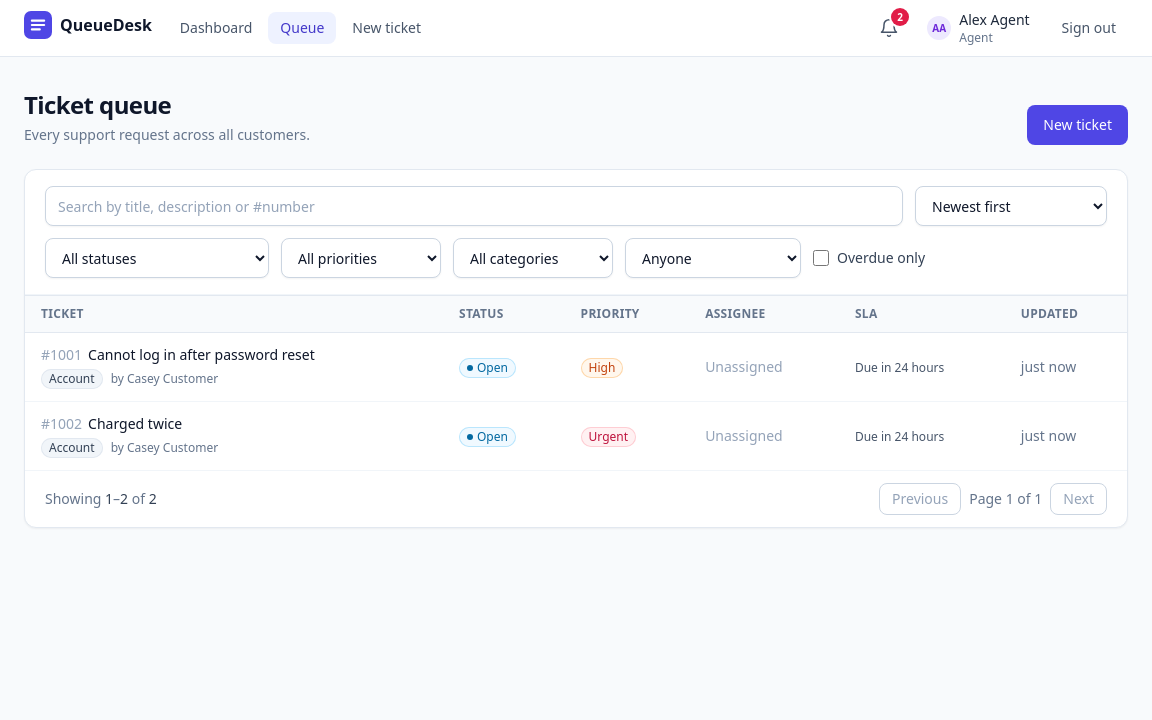
Scenario: notification bell › marks everything as read
The width and height of the screenshot is (1152, 720).
Click the button named "notifications".
click(889, 28)  # box [871,10,907,46]
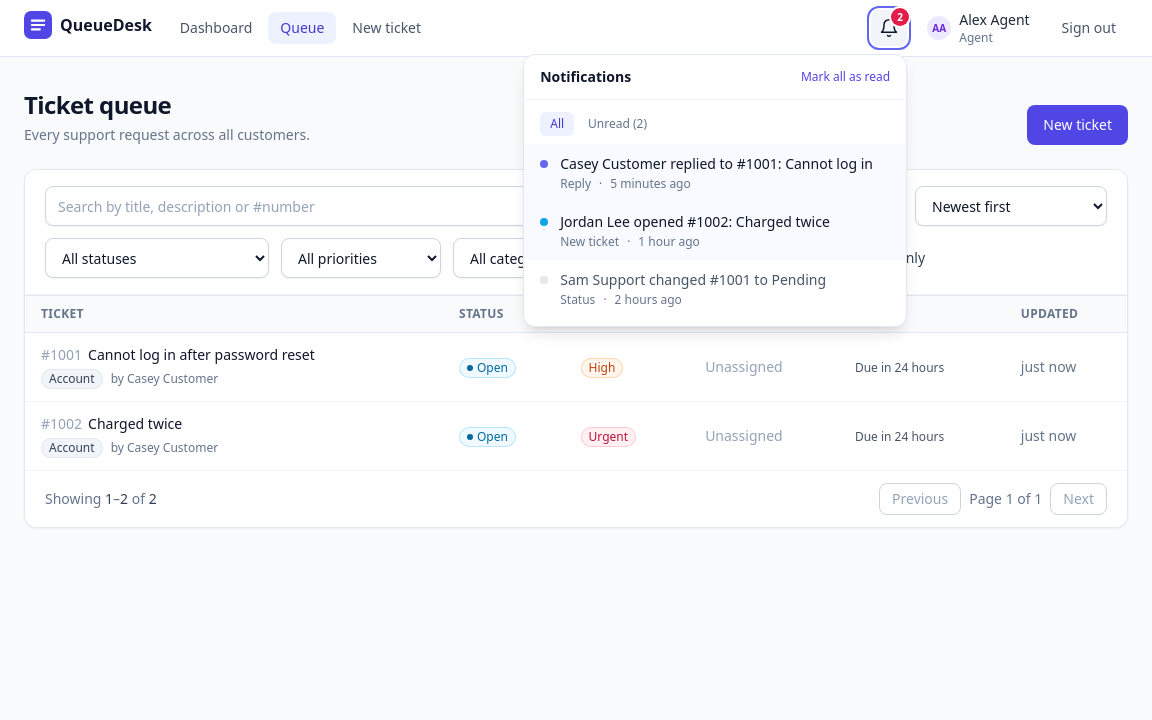
Click the button "Mark all as read".
click(846, 77)  # box [801,69,890,85]
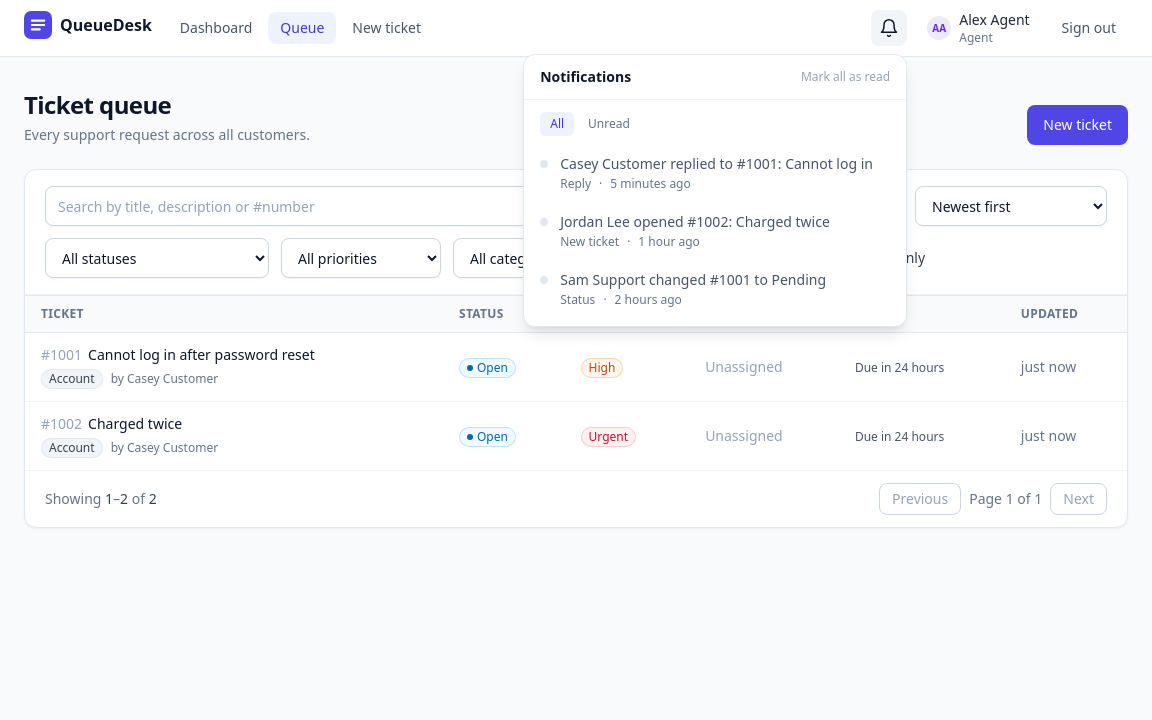
expect the button named "Notifications" is shown: met, box [871,10,907,46]
expect the button "Mark all as read" is disabled: met, box [801,69,890,85]
